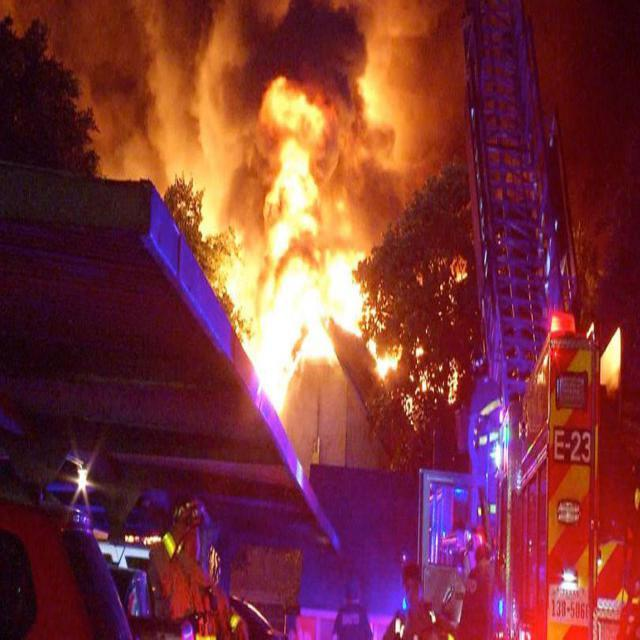Fire: (204, 46, 400, 422)
